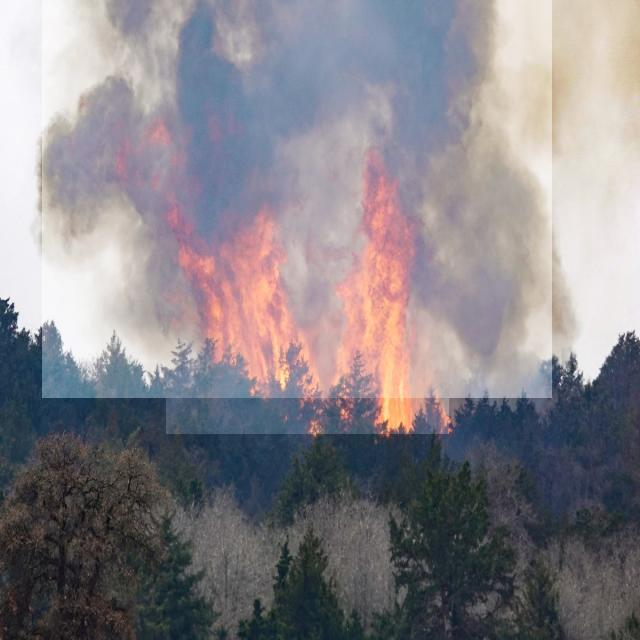Fire: (166, 154, 449, 434)
Smoke: (42, 0, 552, 398)
